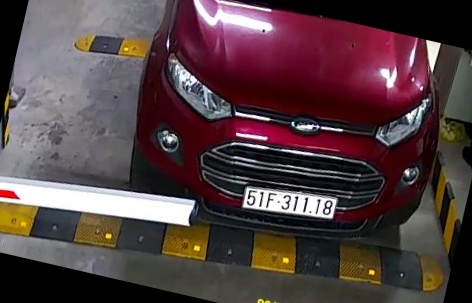plate: (242, 183, 341, 224)
